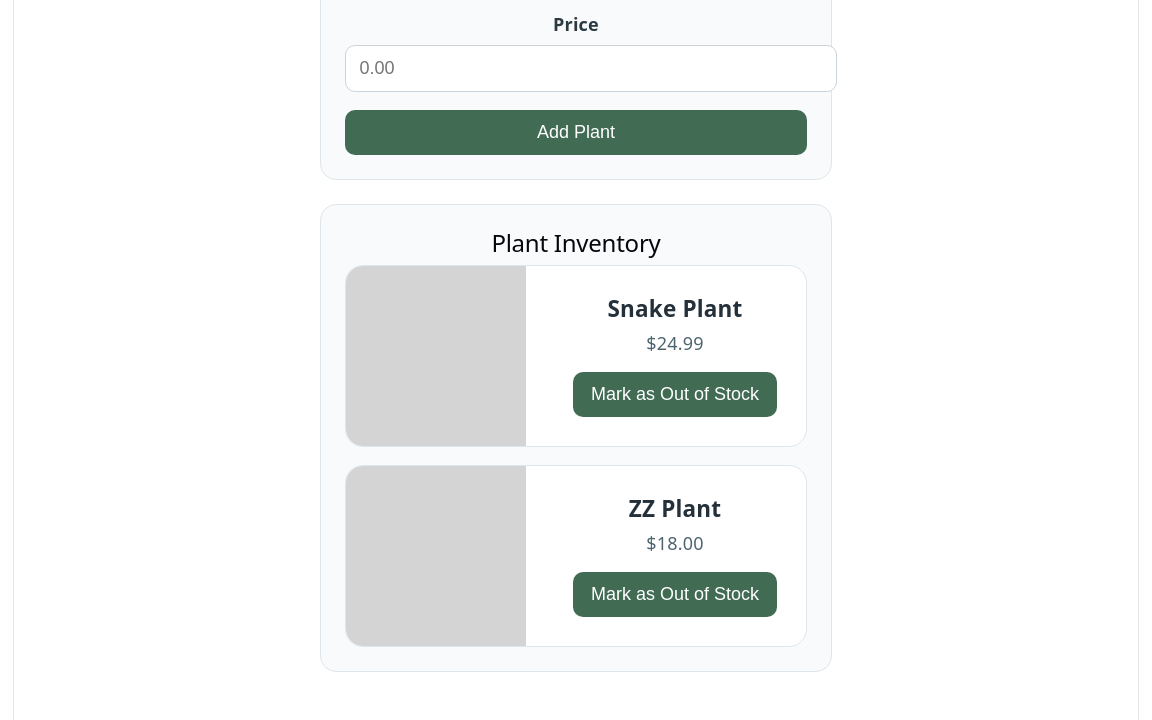
Scenario: Plant Shop App › allows a user to mark a plant as out of stock
(page scrolled)
Expected: the heading "Snake Plant" is shown, [608,293,742,324]
Click the button "Mark as Out of Stock" below "24.99" at (675, 394), box [573,372,777,417]
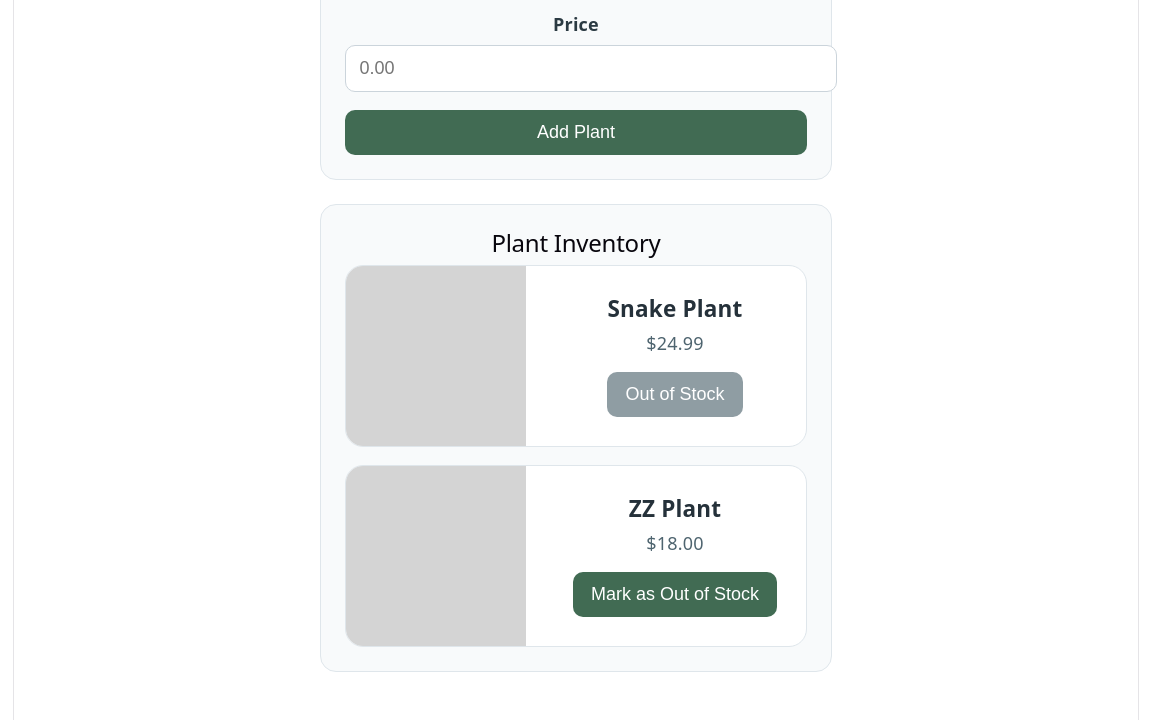
Now the button named "mark as out of stock" reads "Out of Stock", box [608,372,742,417]
Now the button named "mark as out of stock" is disabled, box [608,372,742,417]
